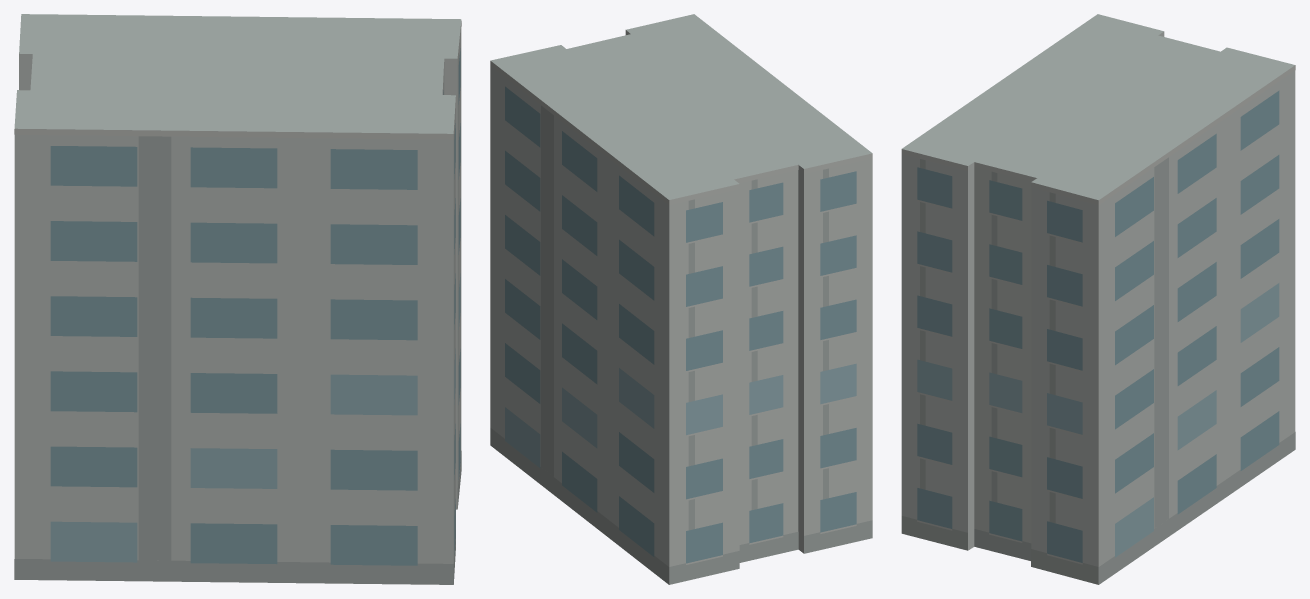
The model's file is survey-upis-32747393.glb.
3 renders of one model, left to right at view 1: azimuth 30°, elevation 25°; view 2: azimuth 150°, elevation 25°; view 3: azimuth 270°, elevation 25°, orthographic. The views are drawn at different scales.
Parts seen in each view (by area): view 1: survey-upis-32747393.tmp; view 2: survey-upis-32747393.tmp; view 3: survey-upis-32747393.tmp.
Part boxes in pixels (bbox=[...]): survey-upis-32747393.tmp: bbox=[14, 14, 461, 584]; survey-upis-32747393.tmp: bbox=[490, 14, 872, 584]; survey-upis-32747393.tmp: bbox=[901, 14, 1295, 584].
Bounding box in the file's own units: 19.01 × 18.3 × 16.99.
